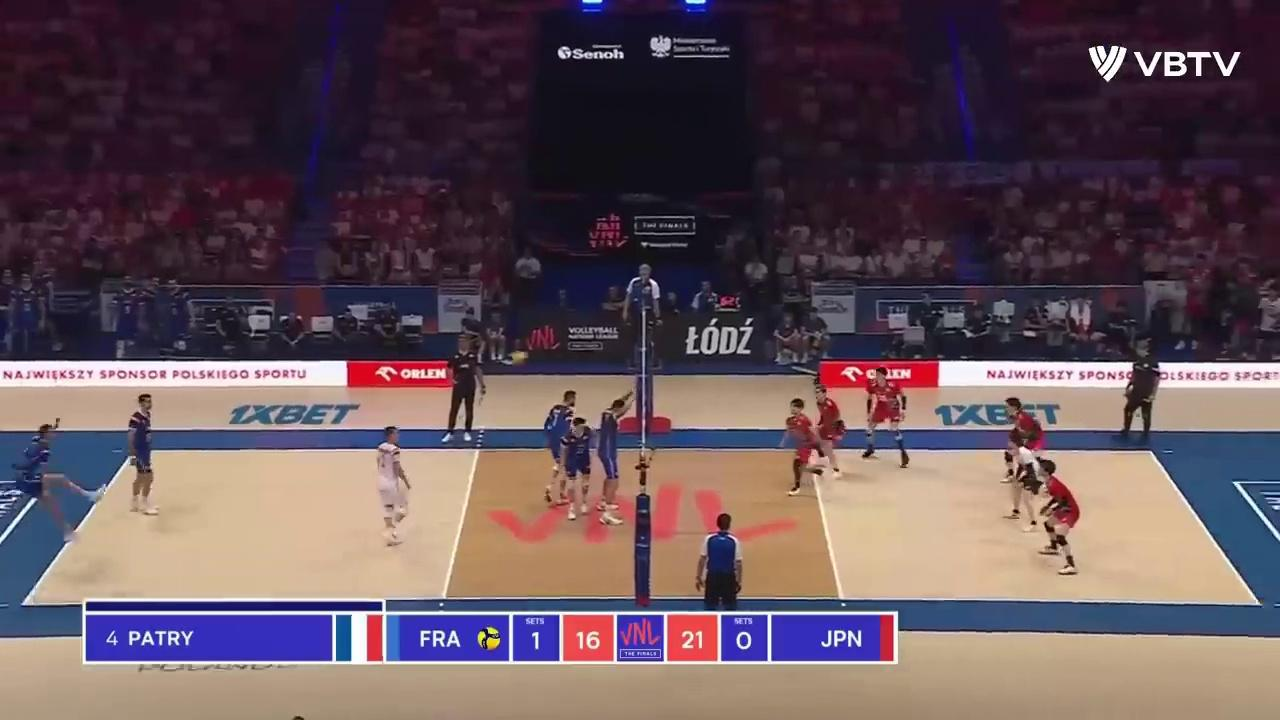ball: (508, 351, 528, 364)
